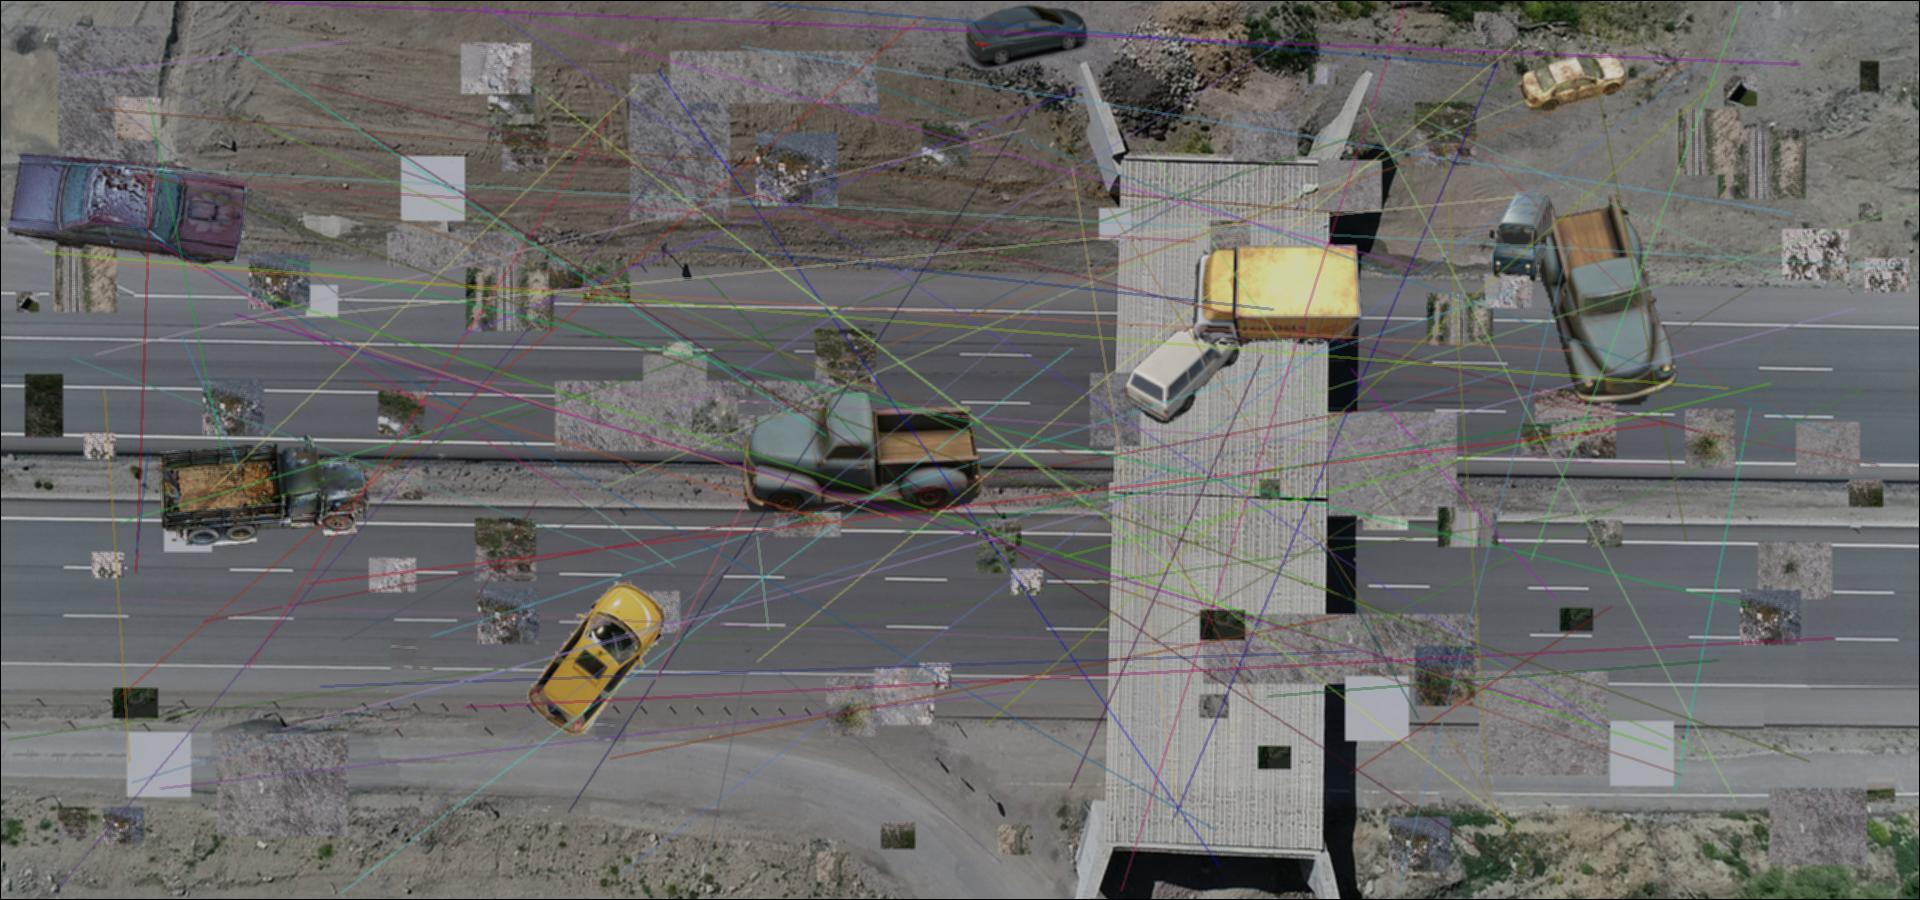arac: (1527, 195, 1679, 405), (2, 143, 250, 272), (742, 392, 982, 512), (525, 576, 669, 741), (156, 435, 370, 545), (1191, 242, 1362, 351), (1122, 311, 1245, 425), (961, 5, 1090, 70), (1516, 51, 1626, 113), (1488, 190, 1553, 280)
